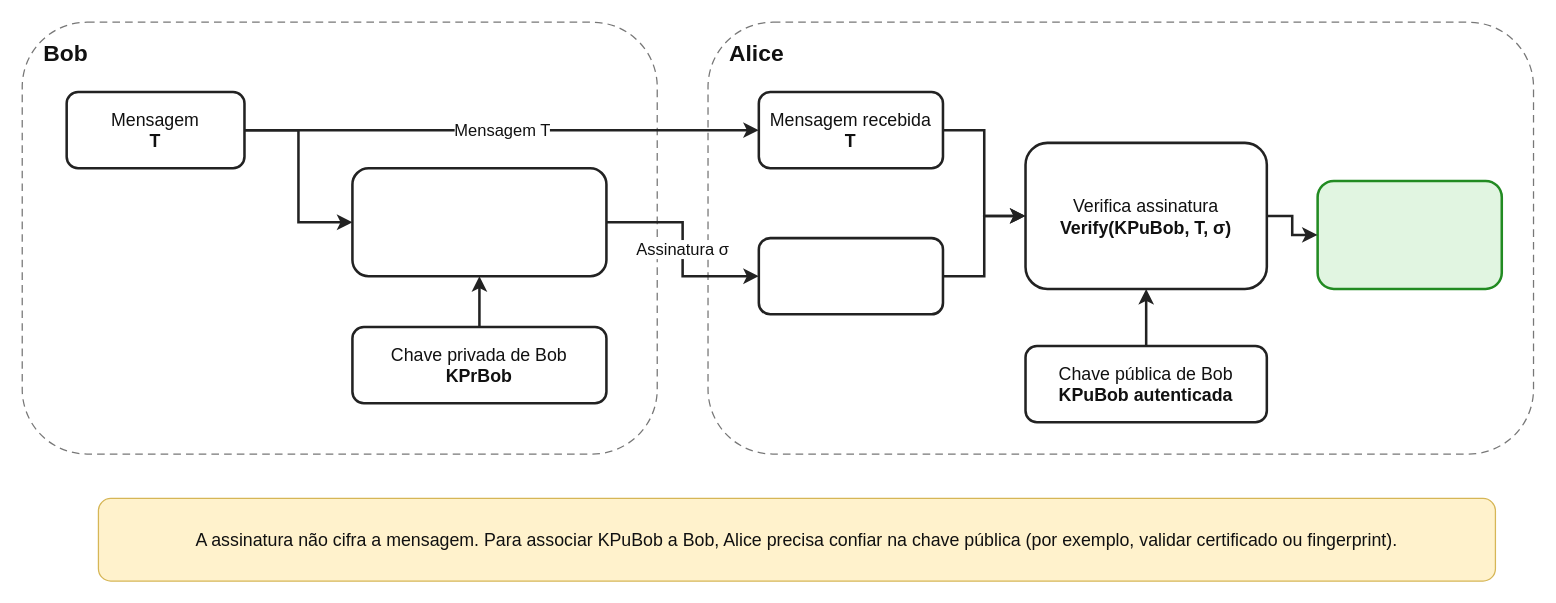
Some shapes in this 1556 by 603 pixel diagram are drawn without their labels. The shapes that lost their labels are listed below. From the top down, each one's centre as x and y in pixels, then its label:
point 479,221: Assina a mensagem σ = Sign(KPrBob, T)
point 1409,234: Resultado Válida / Inválida
point 850,275: Assinatura recebida σ
